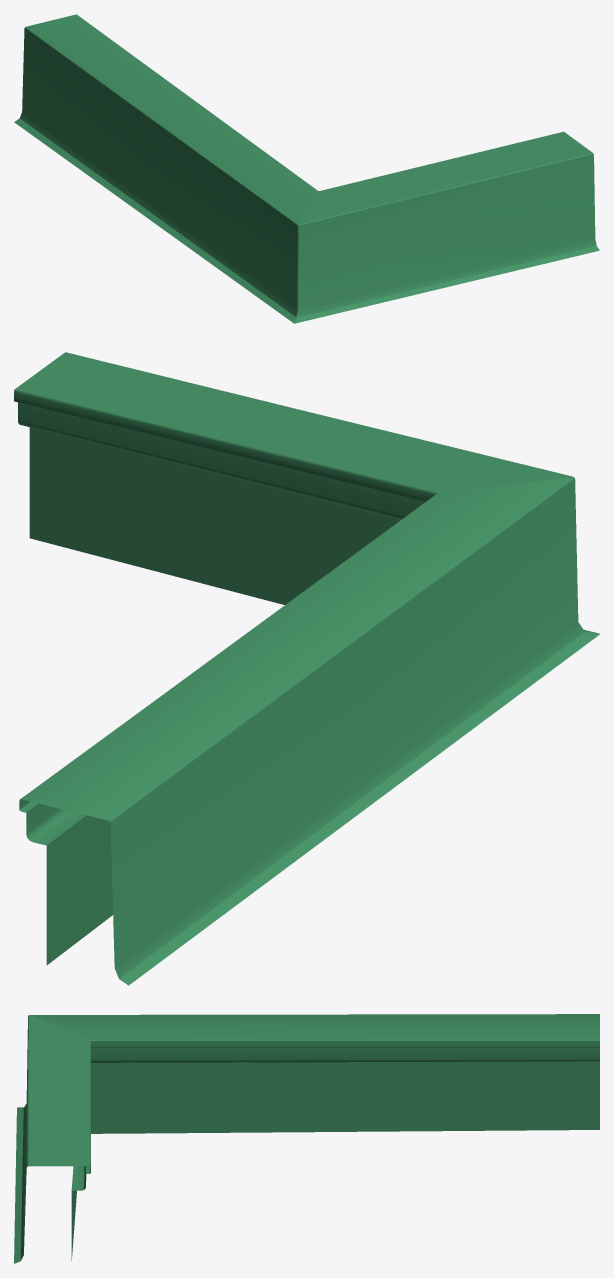
File: GS_Ext_Roof_Trim_Corner_05.fbx
3 renders of one model, top to bottom at view 1: azimuth 30°, elevation 25°; view 2: azimuth 150°, elevation 25°; view 3: azimuth 270°, elevation 25°, orthographic. The views are drawn at different scales.
Visible parts, largest first — view 1: GS_Ext_Roof_Trim_Corner_05; view 2: GS_Ext_Roof_Trim_Corner_05; view 3: GS_Ext_Roof_Trim_Corner_05.
Part boxes in pixels (x1,y1,x2,y2): GS_Ext_Roof_Trim_Corner_05: (14, 14, 599, 323); GS_Ext_Roof_Trim_Corner_05: (14, 352, 599, 985); GS_Ext_Roof_Trim_Corner_05: (14, 1014, 599, 1263).
Size of the model in its own units: 195 by 56 by 305.
